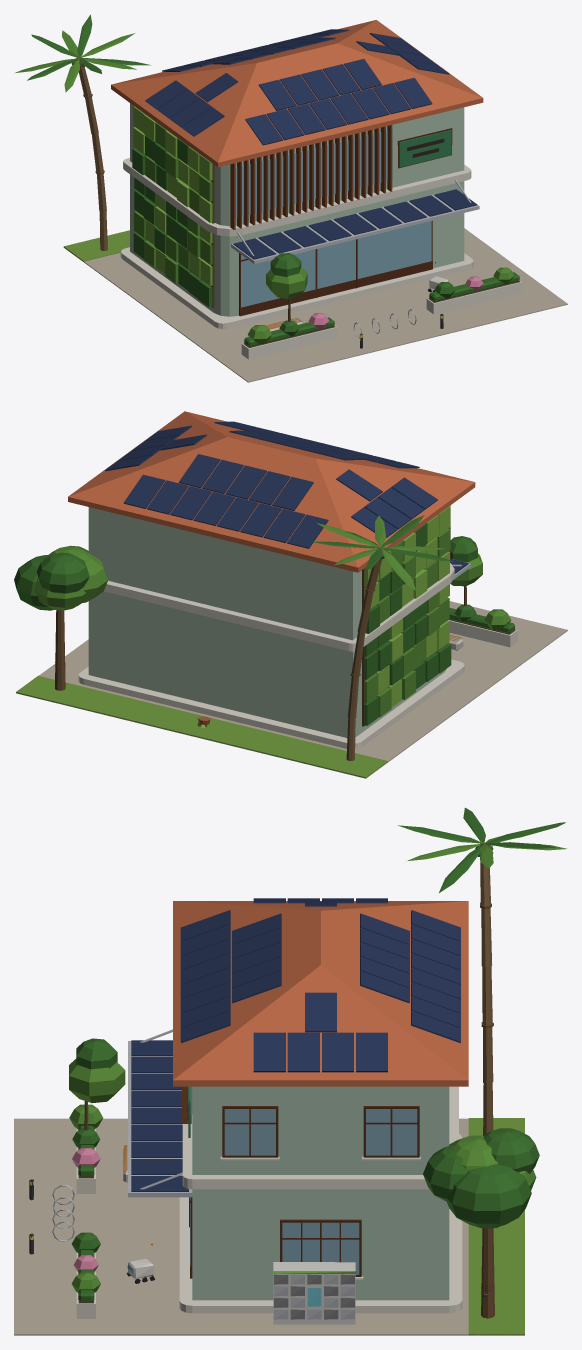
Rendered from shop_2.glb.
3 views of the same model, one above another, from view 1: azimuth 30°, elevation 25°; view 2: azimuth 150°, elevation 25°; view 3: azimuth 270°, elevation 25° (orthographic). The views are drawn at different scales.
Parts seen in each view (by area): view 1: body; view 2: body; view 3: body.
Boxes of the visible parts, box(x1,y1,x2,y2) form: body: box(14, 14, 567, 382); body: box(14, 411, 567, 778); body: box(14, 807, 566, 1335).
Bounding box in the file's own units: 19.34 × 10.54 × 17.24.
